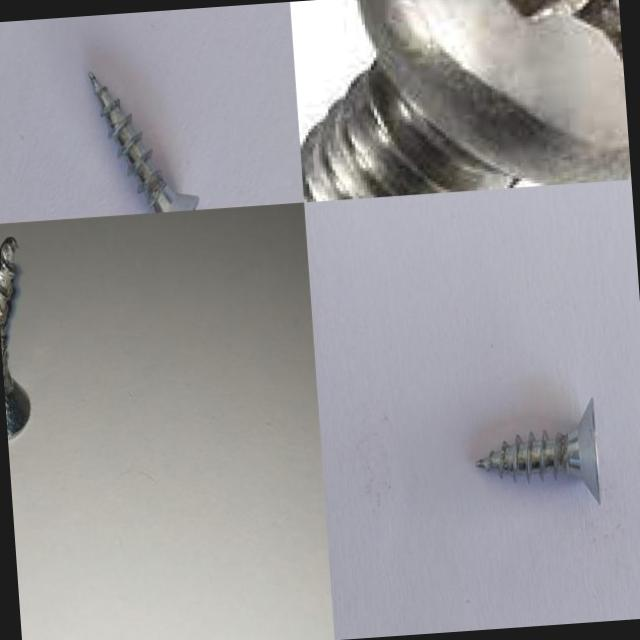Screw: (300, 0, 631, 202), (88, 70, 198, 213), (476, 396, 601, 502), (0, 236, 29, 438)
